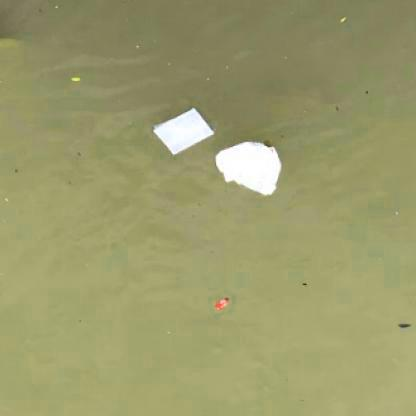Trash: (214, 141, 282, 198), (148, 105, 218, 157)
